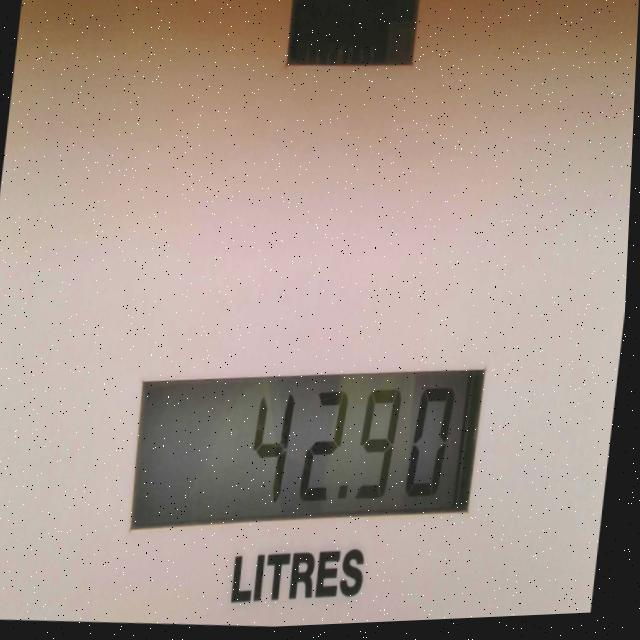.: (332, 480, 357, 511)
0: (403, 389, 467, 506)
2: (300, 390, 354, 511)
4: (243, 390, 305, 511)
9: (348, 391, 410, 506)
